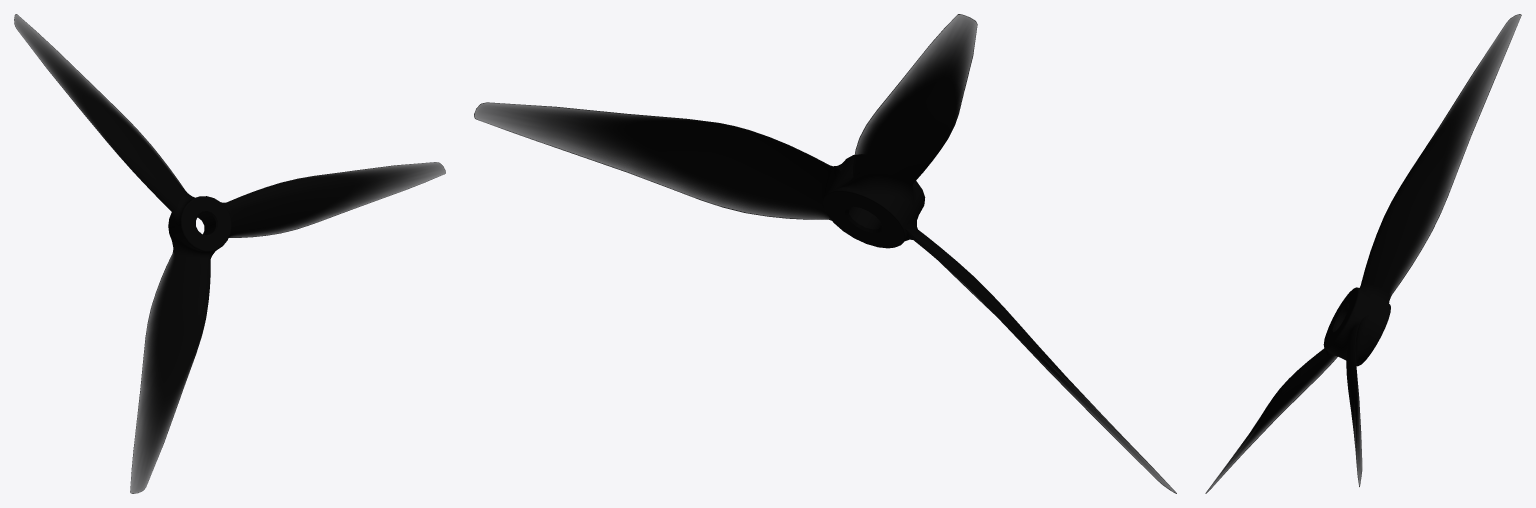
The model's file is 5_tri-blade_propeller.glb.
3 renders of one model, left to right at view 1: azimuth 30°, elevation 25°; view 2: azimuth 150°, elevation 25°; view 3: azimuth 270°, elevation 25°, orthographic. The views are drawn at different scales.
Visible parts, largest first — view 1: Prop5in; view 2: Prop5in; view 3: Prop5in.
Boxes of the visible parts, left/top/right/bottom form: Prop5in: left=14, top=14, right=445, bottom=493; Prop5in: left=474, top=14, right=1176, bottom=493; Prop5in: left=1205, top=14, right=1521, bottom=493.
Size of the model in its own units: 0.0958 by 0.0942 by 0.056.
1 material, 1 textured.
